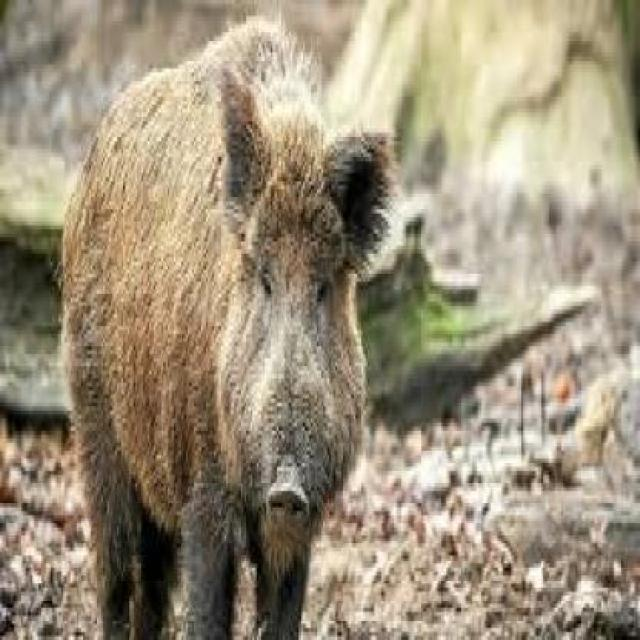wildboar: (53, 4, 390, 640)
